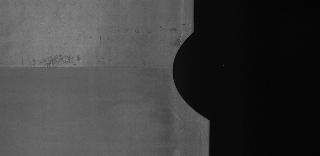welding line: (1, 62, 173, 72)
